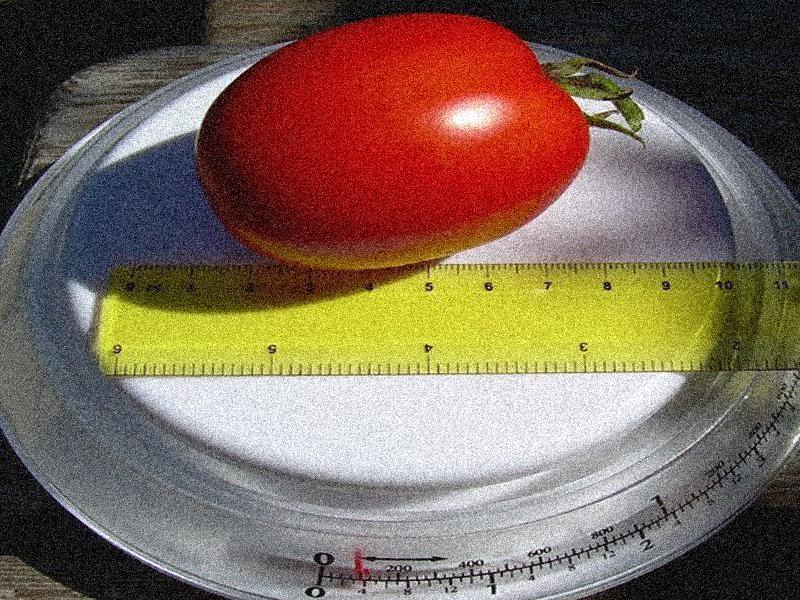Tomato: (198, 11, 591, 276)
